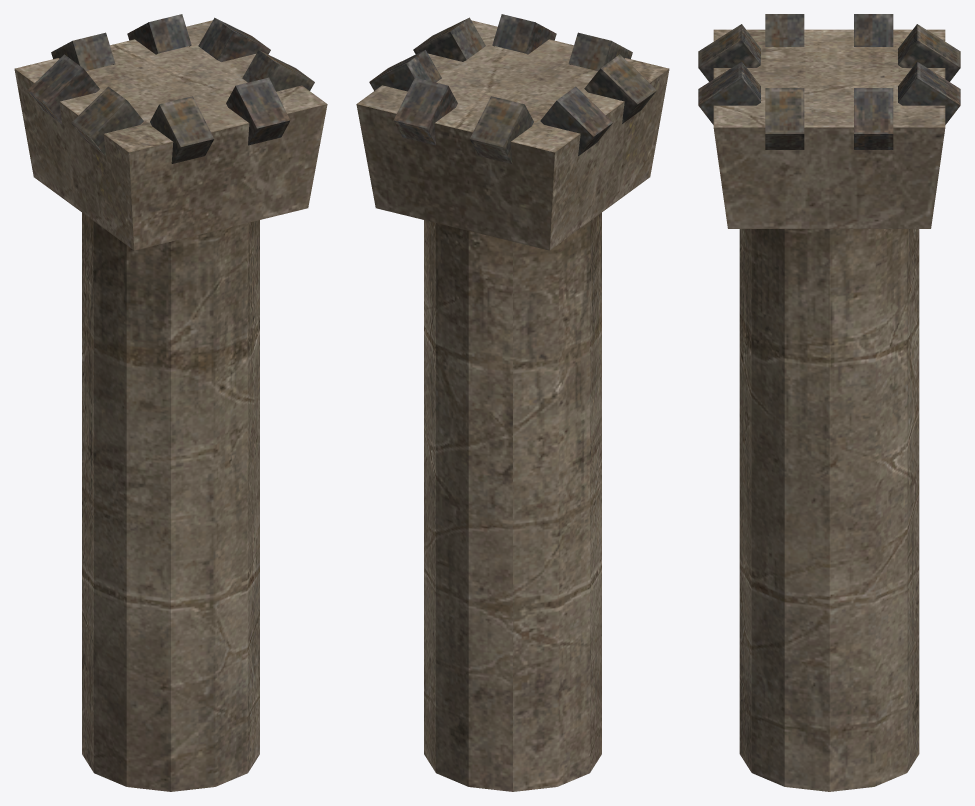
The model's file is bg_lut_lutomb_pillar09_sm_old.FBX.
3 renders of one model, left to right at view 1: azimuth 30°, elevation 25°; view 2: azimuth 150°, elevation 25°; view 3: azimuth 270°, elevation 25°, orthographic.
Visible parts, largest first — view 1: bg_lut_lutomb_pillar09_sm_old; view 2: bg_lut_lutomb_pillar09_sm_old; view 3: bg_lut_lutomb_pillar09_sm_old.
Part boxes in pixels (x1,y1,x2,y2): bg_lut_lutomb_pillar09_sm_old: (14, 14, 327, 791); bg_lut_lutomb_pillar09_sm_old: (356, 14, 669, 791); bg_lut_lutomb_pillar09_sm_old: (698, 14, 960, 791).
Size of the model in its own units: 61.95 by 183 by 61.95.
